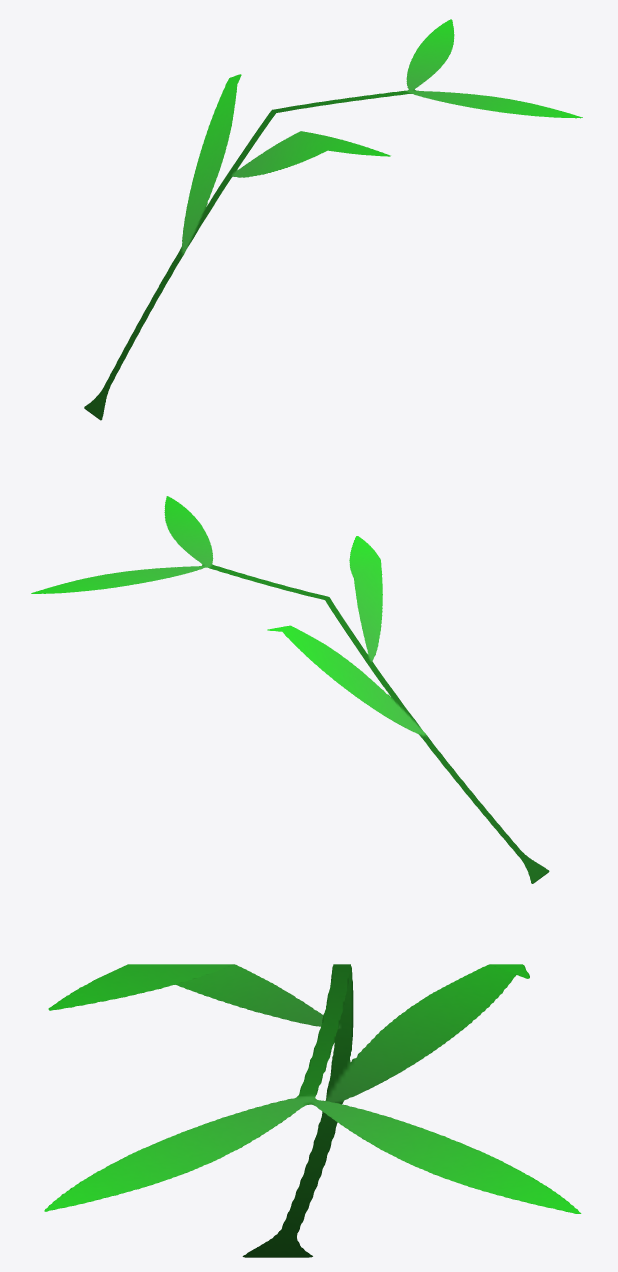
File: mesh_bamboo_leaf.glb
3 views of the same model, one above another, from view 1: azimuth 30°, elevation 25°; view 2: azimuth 150°, elevation 25°; view 3: azimuth 270°, elevation 25° (orthographic). The views are drawn at different scales.
Parts seen in each view (by area): view 1: mesh_bamboo_leaf; view 2: mesh_bamboo_leaf; view 3: mesh_bamboo_leaf.
Part boxes in pixels (x1,y1,x2,y2): mesh_bamboo_leaf: (84,19,582,420); mesh_bamboo_leaf: (31,496,549,883); mesh_bamboo_leaf: (44,964,581,1257).
Bounding box in the file's own units: 0.8247 × 0.427 × 0.4503.
1 material, 1 textured.
